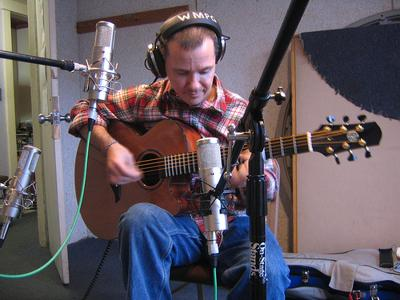person: (68, 14, 290, 300)
